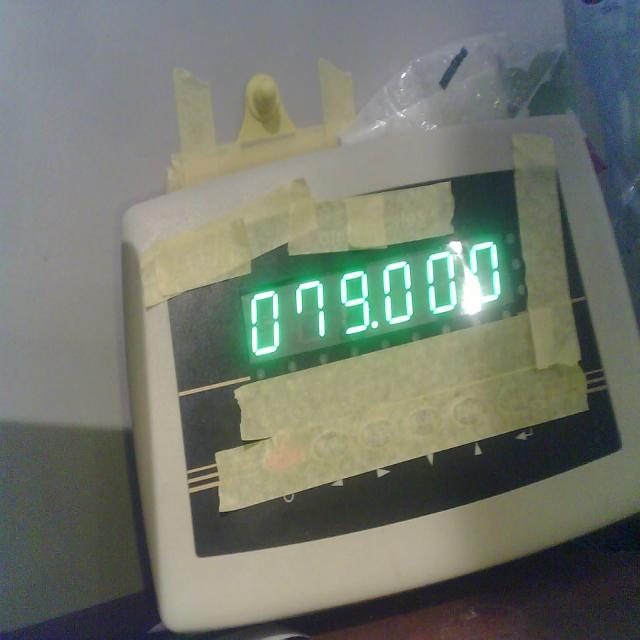.: (370, 317, 380, 332)
0: (250, 273, 280, 372), (382, 249, 414, 335), (469, 240, 502, 304), (427, 250, 458, 314)
7: (296, 269, 326, 350)
9: (336, 269, 373, 338)
